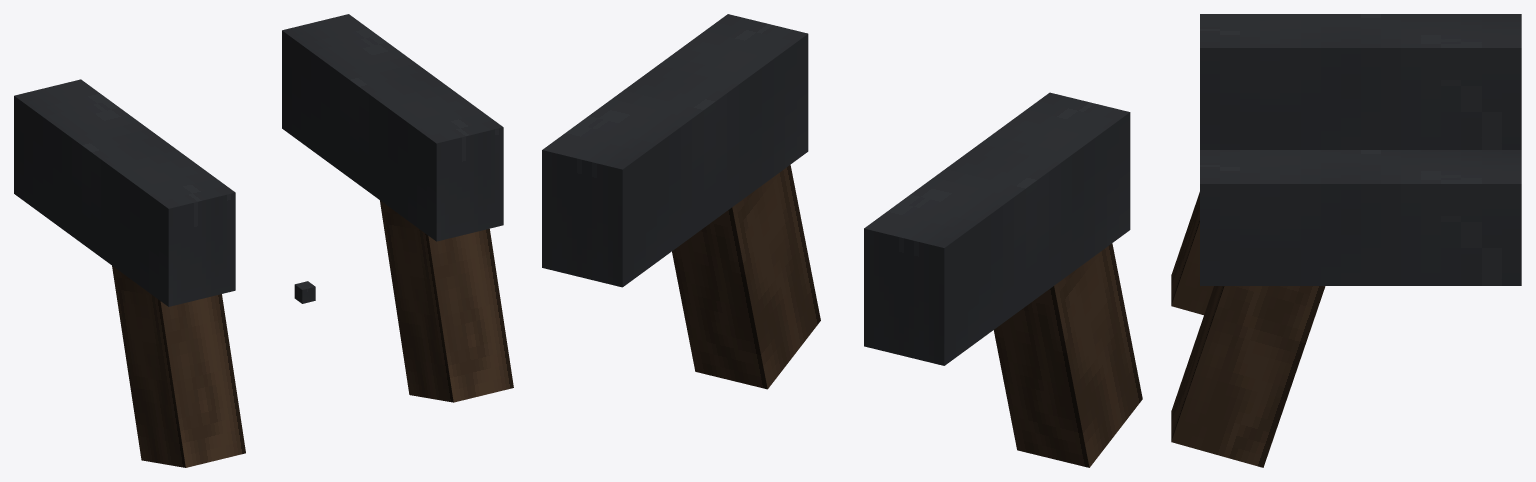
The model's file is gun_akimbo.glb.
3 views of the same model, side by side, from view 1: azimuth 30°, elevation 25°; view 2: azimuth 150°, elevation 25°; view 3: azimuth 270°, elevation 25° (orthographic). The views are drawn at different scales.
Visible parts, largest first — view 1: Gun_akimbo; view 2: Gun_akimbo; view 3: Gun_akimbo.
Boxes of the visible parts, x1,y1,x2,y2 form: Gun_akimbo: (14, 14, 513, 467); Gun_akimbo: (542, 14, 1142, 467); Gun_akimbo: (1171, 14, 1521, 467).
Size of the model in its own units: 0.25 by 0.196 by 0.2179.
2 materials, 2 textured.
